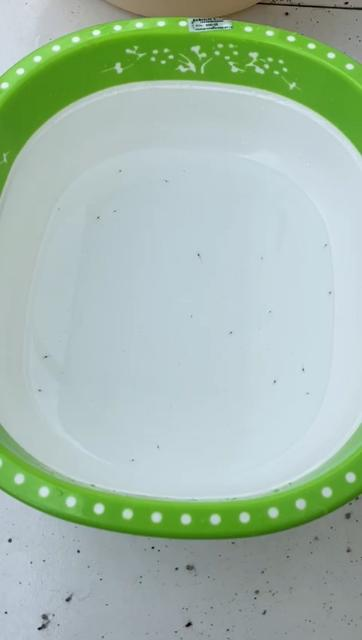benur: (36, 387, 45, 396), (267, 309, 275, 317), (305, 390, 312, 399), (271, 379, 279, 386), (190, 312, 197, 320), (43, 354, 50, 362), (129, 458, 137, 465), (156, 443, 162, 452), (227, 330, 234, 337), (113, 208, 119, 215), (163, 179, 170, 185), (259, 255, 266, 261), (324, 241, 329, 249), (95, 215, 101, 221), (118, 168, 123, 174), (196, 252, 201, 258), (301, 368, 307, 373), (56, 207, 62, 212), (329, 290, 333, 296)
